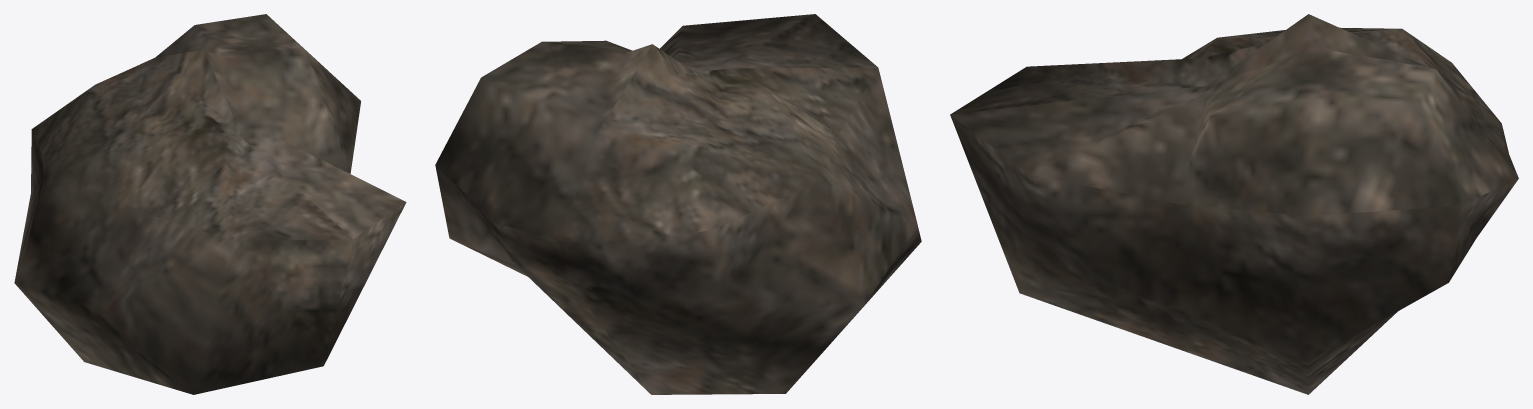
The model's file is Rock_07.glb.
The picture shows the model from 3 angles, left to right: view 1: azimuth 30°, elevation 25°; view 2: azimuth 150°, elevation 25°; view 3: azimuth 270°, elevation 25°; orthographic projection. The views are drawn at different scales.
Parts seen in each view (by area): view 1: Rock_07.001; view 2: Rock_07.001; view 3: Rock_07.001.
Part boxes in pixels (left/top/right/bottom): Rock_07.001: left=14, top=14, right=406, bottom=394; Rock_07.001: left=435, top=14, right=921, bottom=394; Rock_07.001: left=950, top=14, right=1518, bottom=394.
Bounding box in the file's own units: 0.7561 × 0.6529 × 0.8851.
Materials: 1 (1 with a texture image).
